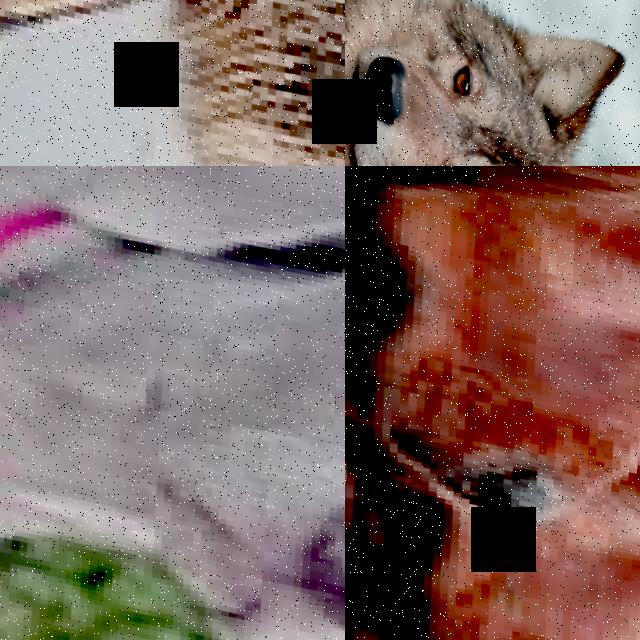dog: (0, 166, 345, 640), (345, 216, 640, 640), (345, 166, 640, 563), (345, 367, 640, 640)
wolf: (0, 0, 345, 166), (345, 0, 640, 166)
